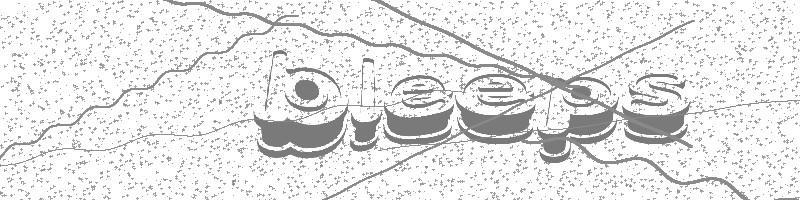b: (243, 39, 354, 160)
e: (457, 68, 536, 148), (381, 75, 460, 146)
l: (348, 52, 388, 159)
p: (539, 73, 620, 163)
s: (624, 69, 695, 149)
